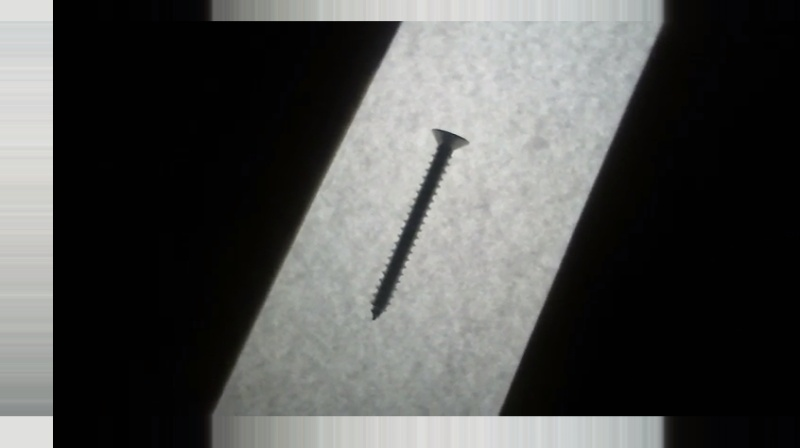S002: (368, 126, 473, 323)
